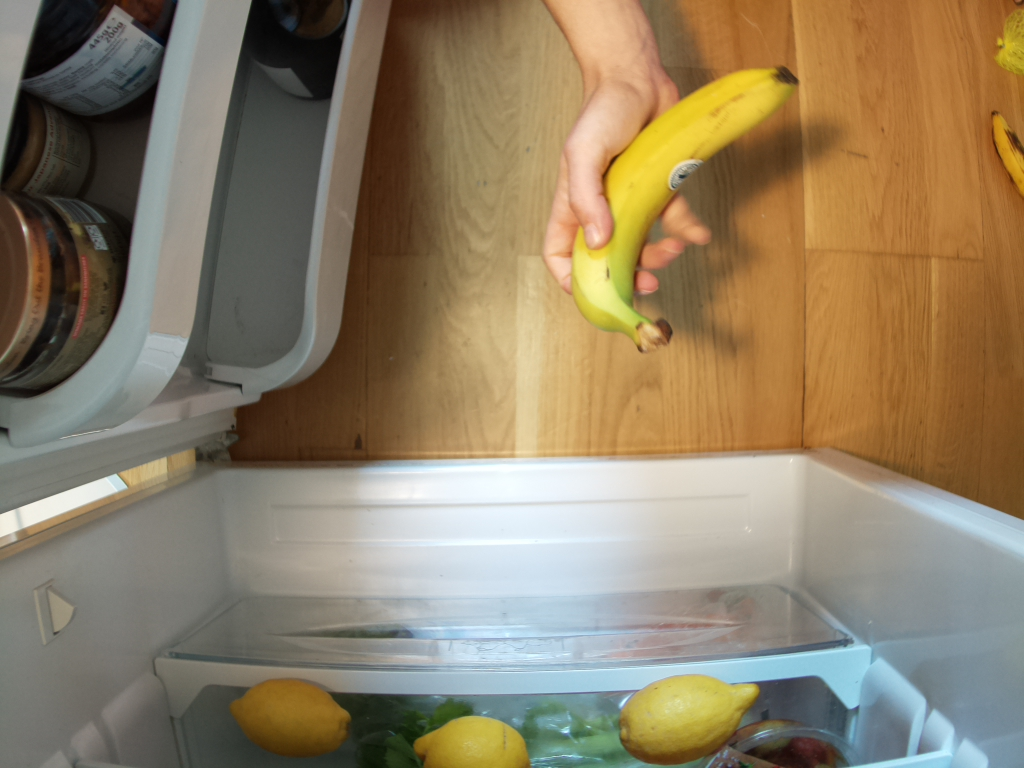banana-unripe: (568, 61, 803, 356)
